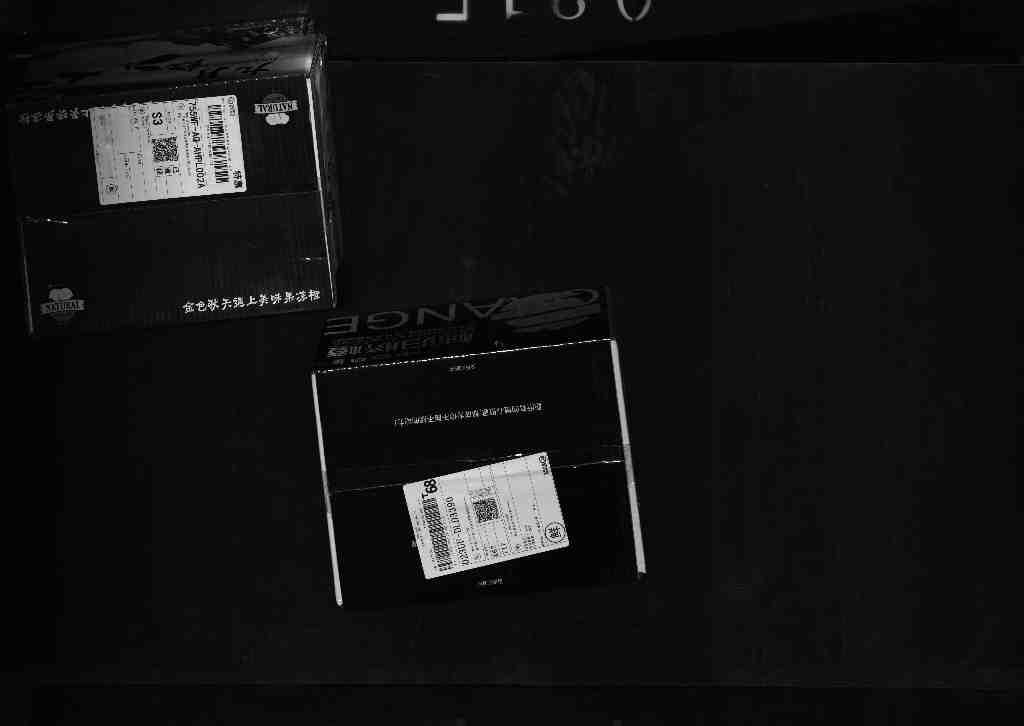box: (299, 342, 660, 603), (8, 60, 343, 324)
